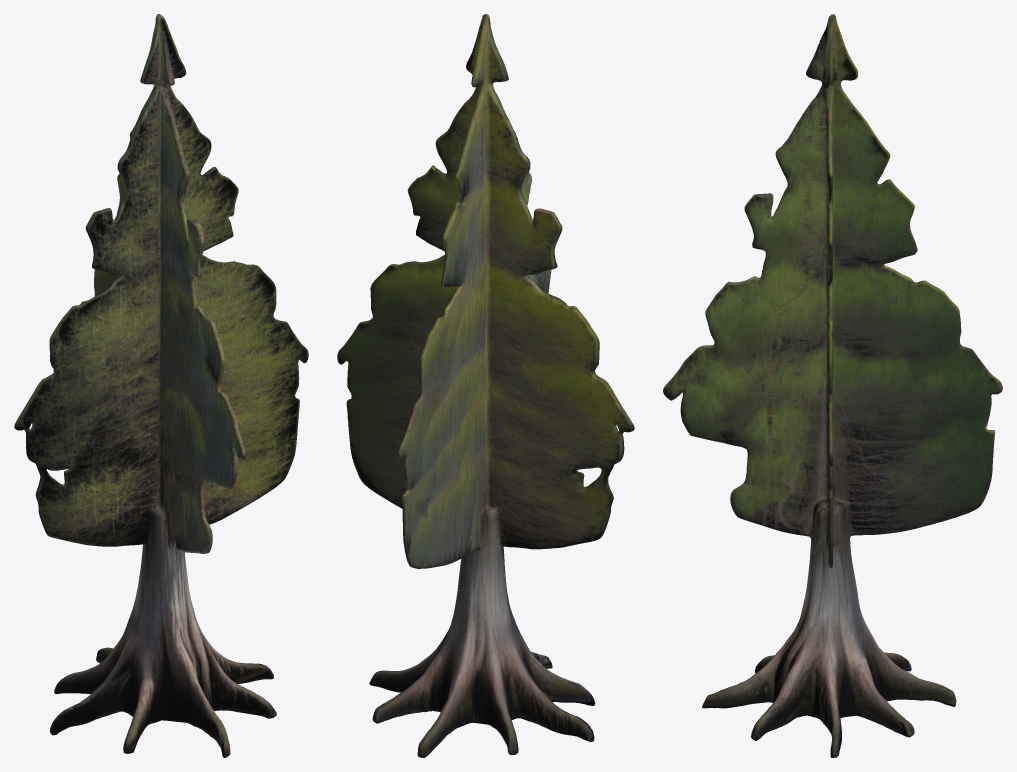
The model's file is AI_BaldCypress.fbx.
3 views of the same model, side by side, from view 1: azimuth 30°, elevation 25°; view 2: azimuth 150°, elevation 25°; view 3: azimuth 270°, elevation 25° (orthographic).
Parts seen in each view (by area): view 1: Mesh1.0; view 2: Mesh1.0; view 3: Mesh1.0.
Part boxes in pixels (bbox=[...]): Mesh1.0: bbox=[14, 14, 308, 757]; Mesh1.0: bbox=[337, 14, 634, 757]; Mesh1.0: bbox=[663, 14, 1002, 757].
Bounding box in the file's own units: 88.87 × 201 × 89.35.
Materials: 1 (1 with a texture image).
